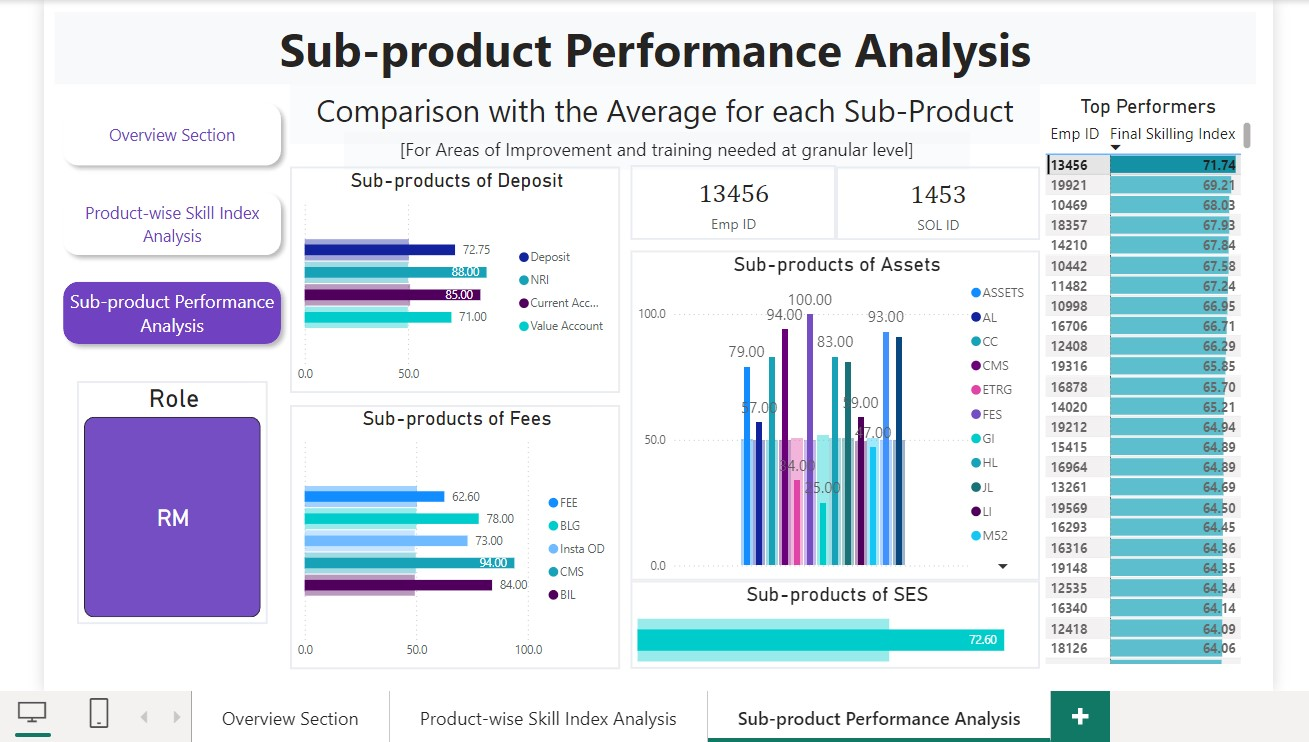

What the dashboard file says about the page in this screenshot:
{"tool":"powerbi","page":{"name":"Sub-product Performance Analysis","canvas":[1280,720],"ordinal":2},"visuals":[{"type":"textbox","box":[10.9,12.5,1252,75],"z":0},{"type":"pageNavigator","box":[10.9,98.5,245.4,272],"z":1000},{"type":"tableEx","title":"Top Performers","fields":{"Values":["Dataset.Emp_ID_text","Avg(Dataset.Final Skilling Index)"]},"box":[1037.8,98.5,225.1,598.6],"z":2000},{"type":"advancedSlicerVisual","fields":{"Values":["Dataset.Role"]},"box":[34.4,397,198.5,253.2],"z":3000},{"type":"clusteredBarChart","title":"Sub-products of Deposit","fields":{"Y":["Avg(Dataset.Deposit)","Avg(Dataset.NRI )","Avg(Dataset.Current Account )","Avg(Dataset.Value Account)"]},"box":[256.3,173.5,343.9,236],"z":4000},{"type":"clusteredBarChart","title":"Sub-products of Fees","fields":{"Y":["Avg(Dataset.FEE)","Avg(Dataset.BLG)","Avg(Dataset.Insta OD)","Avg(Dataset.CMS)","Avg(Dataset.BIL)"]},"box":[256.3,422,343.9,275.1],"z":5000},{"type":"clusteredColumnChart","title":"Sub-products of Assets","fields":{"Y":["Avg(Dataset.ASSETS)","Avg(Dataset.AL)","Avg(Dataset.CC)","Avg(Dataset.CMS)","Avg(Dataset.ETRG)","Avg(Dataset.FES)","Avg(Dataset.GI)","Avg(Dataset.HL )","Avg(Dataset.JL)","Avg(Dataset.LI)","Avg(Dataset.M52)","Avg(Dataset.MF)"]},"box":[611.1,261,426.7,343.9],"z":6000},{"type":"clusteredBarChart","title":"Sub-products of SES","fields":{"Y":["Avg(Dataset.SES)"]},"box":[611.1,604.9,426.7,92.2],"z":7000},{"type":"card","fields":{"Values":["Min(Dataset.Emp_ID_text)"]},"box":[611.1,171.9,214.1,78.1],"z":8000},{"type":"card","fields":{"Values":["Min(Dataset.SOL_ID_text)"]},"box":[825.3,173.5,212.6,76.6],"z":9000},{"type":"textbox","box":[256.3,87.5,781.5,62.5],"z":10000},{"type":"textbox","box":[312.6,137.5,651.8,39.1],"z":11000}]}

Visuals, with their boxes on the page's 1280x720 design canvas (x1, y1, x2, y2). These are canvas units, not pixel positions in the 1309x742 screenshot, which may show the page scaled, cropped or inside an application window:
textbox: select_region(11, 12, 1263, 88)
pageNavigator: select_region(11, 98, 256, 370)
"Top Performers" tableEx: select_region(1038, 98, 1263, 697)
advancedSlicerVisual - Dataset.Role: select_region(34, 397, 233, 650)
"Sub-products of Deposit" clusteredBarChart: select_region(256, 174, 600, 410)
"Sub-products of Fees" clusteredBarChart: select_region(256, 422, 600, 697)
"Sub-products of Assets" clusteredColumnChart: select_region(611, 261, 1038, 605)
"Sub-products of SES" clusteredBarChart: select_region(611, 605, 1038, 697)
card - Min(Dataset.Emp_ID_text): select_region(611, 172, 825, 250)
card - Min(Dataset.SOL_ID_text): select_region(825, 174, 1038, 250)
textbox: select_region(256, 88, 1038, 150)
textbox: select_region(313, 138, 964, 177)
